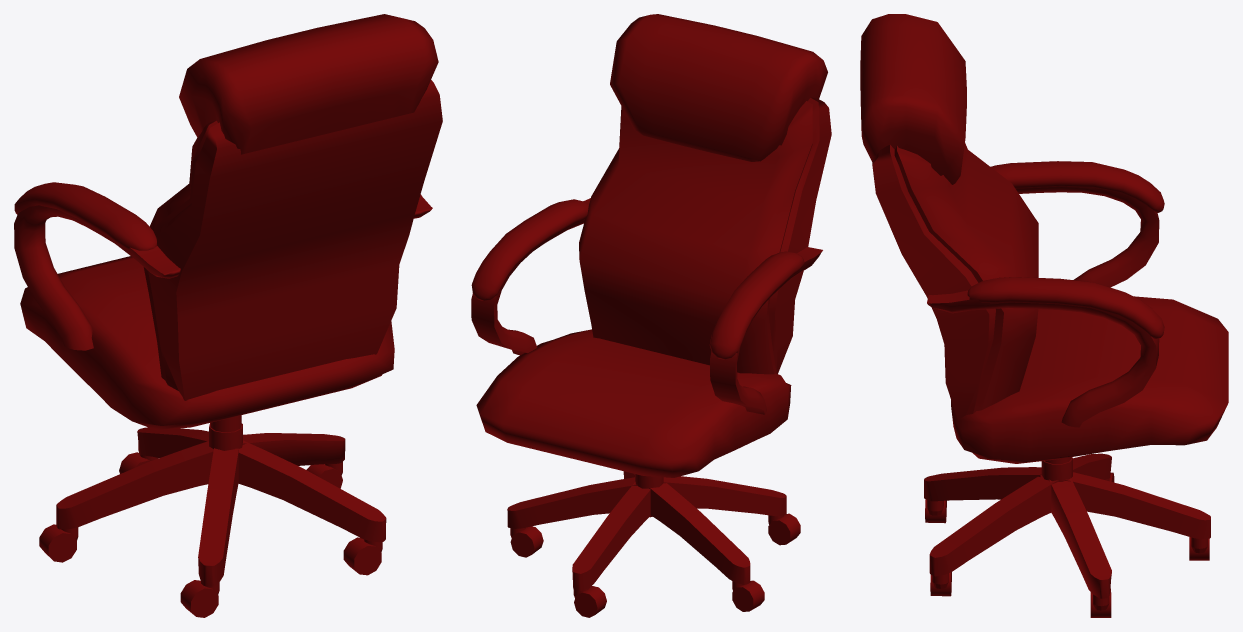
The model's file is officeChair_low.fbx.
3 renders of one model, left to right at view 1: azimuth 30°, elevation 25°; view 2: azimuth 150°, elevation 25°; view 3: azimuth 270°, elevation 25°, orthographic. The views are drawn at different scales.
Parts seen in each view (by area): view 1: officeChair_low; view 2: officeChair_low; view 3: officeChair_low.
Part boxes in pixels (x1=…): officeChair_low: x1=14, y1=14, x2=442, y2=617; officeChair_low: x1=471, y1=14, x2=831, y2=617; officeChair_low: x1=860, y1=14, x2=1228, y2=617.
Bounding box in the file's own units: 0.8342 × 1.42 × 0.9257.
